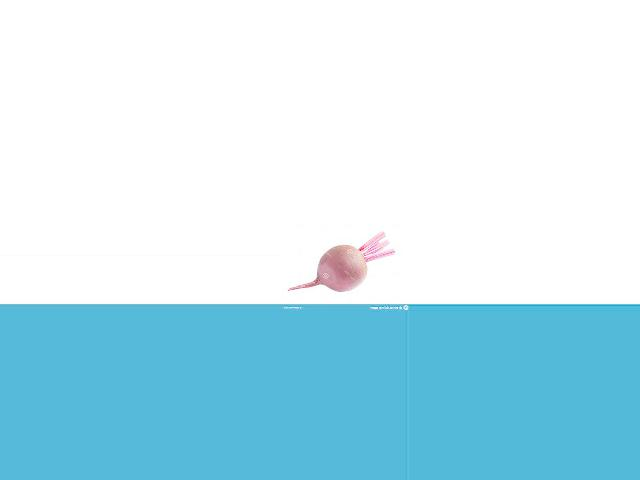beet: (288, 232, 394, 291)
